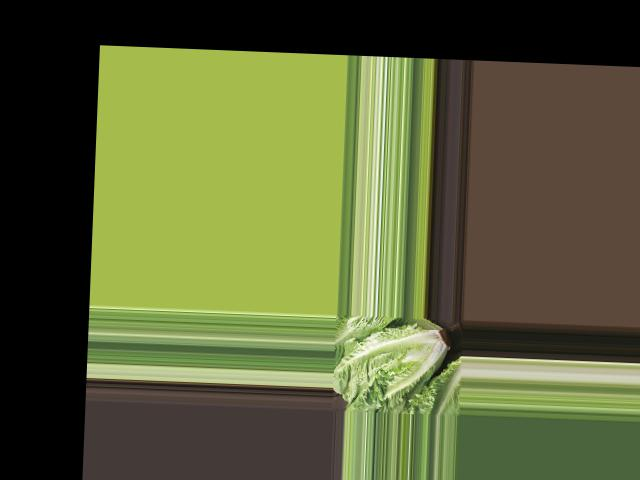lettuce: (333, 313, 457, 409)
